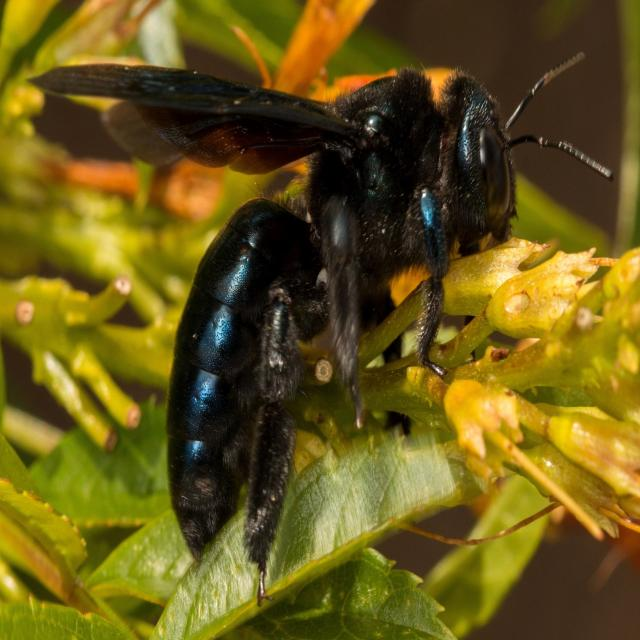Xylocopa: (8, 9, 614, 589)
